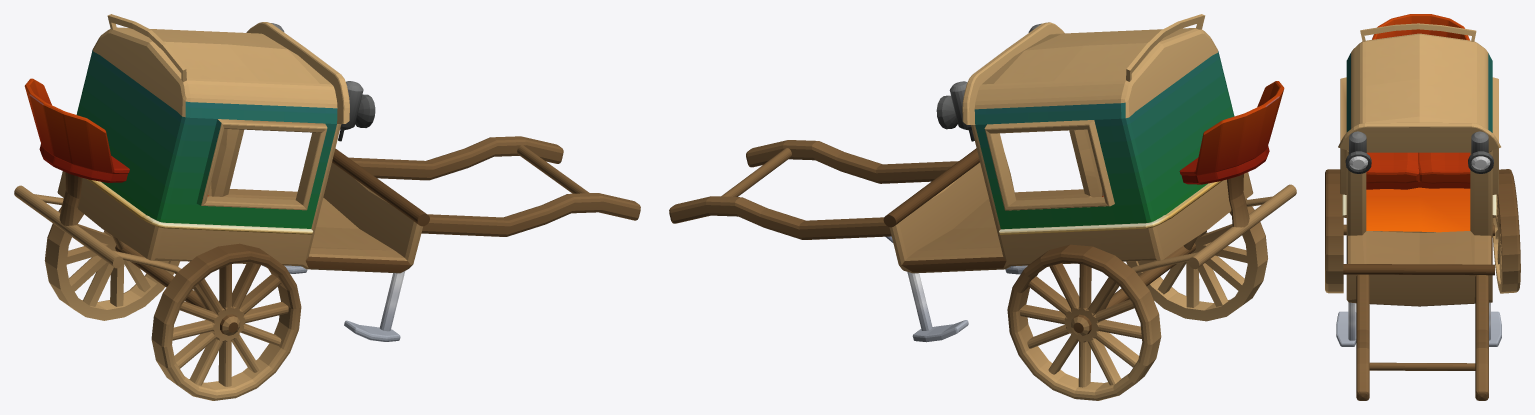
File: horse_carriage.fbx
The picture shows the model from 3 angles, left to right: view 1: azimuth 30°, elevation 25°; view 2: azimuth 150°, elevation 25°; view 3: azimuth 270°, elevation 25°; orthographic projection. The views are drawn at different scales.
Visible parts, largest first — view 1: horse_carriage3:horse_carriage3:polySurface26; view 2: horse_carriage3:horse_carriage3:polySurface26; view 3: horse_carriage3:horse_carriage3:polySurface26.
Boxes of the visible parts, x1=… form: horse_carriage3:horse_carriage3:polySurface26: x1=14, y1=14, x2=640, y2=400; horse_carriage3:horse_carriage3:polySurface26: x1=669, y1=14, x2=1296, y2=400; horse_carriage3:horse_carriage3:polySurface26: x1=1325, y1=14, x2=1520, y2=400.
Bounding box in the file's own units: 2.74 × 1.54 × 1.07.
